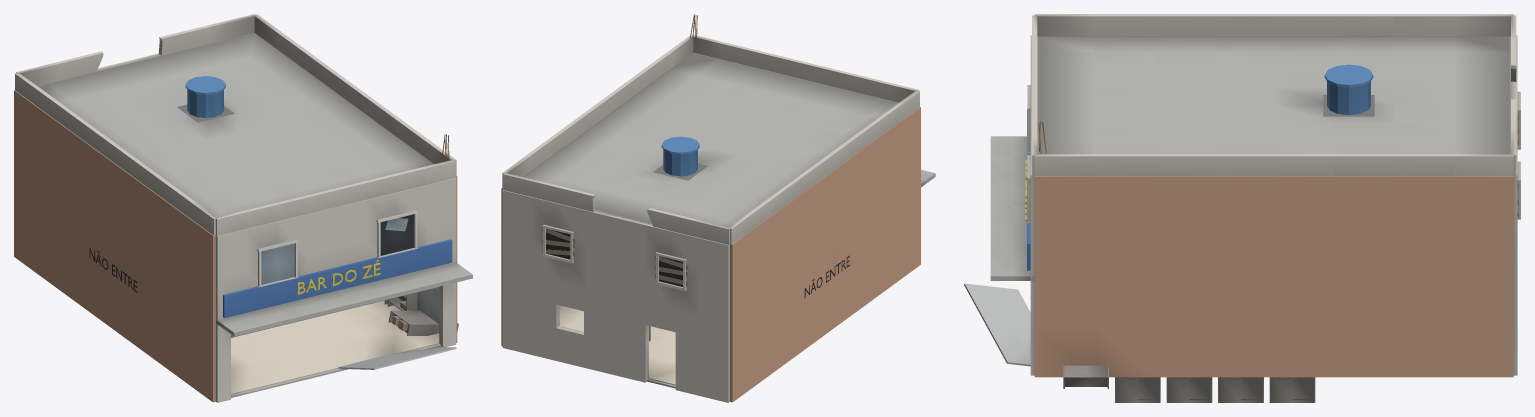
Rendered from sobrado_4.glb.
The picture shows the model from 3 angles, left to right: view 1: azimuth 30°, elevation 25°; view 2: azimuth 150°, elevation 25°; view 3: azimuth 270°, elevation 25°; orthographic projection. The views are drawn at different scales.
Parts seen in each view (by area): view 1: longe, ext, dentro, detalhe; view 2: ext, longe, detalhe, dentro; view 3: ext, longe, dentro, detalhe.
Boxes of the visible parts, x1,y1,x2,y2 form: longe: (15, 14, 472, 369); ext: (14, 33, 457, 402); dentro: (231, 287, 458, 397); detalhe: (89, 76, 449, 294); ext: (501, 52, 920, 402); longe: (502, 35, 935, 244); detalhe: (542, 14, 849, 298); dentro: (559, 305, 675, 388); ext: (1030, 35, 1517, 377); longe: (964, 14, 1516, 366); dentro: (1063, 365, 1315, 402); detalhe: (1025, 64, 1520, 223).
Size of what is drawn, in the model's own units: 9.74 by 8.39 by 15.12.
